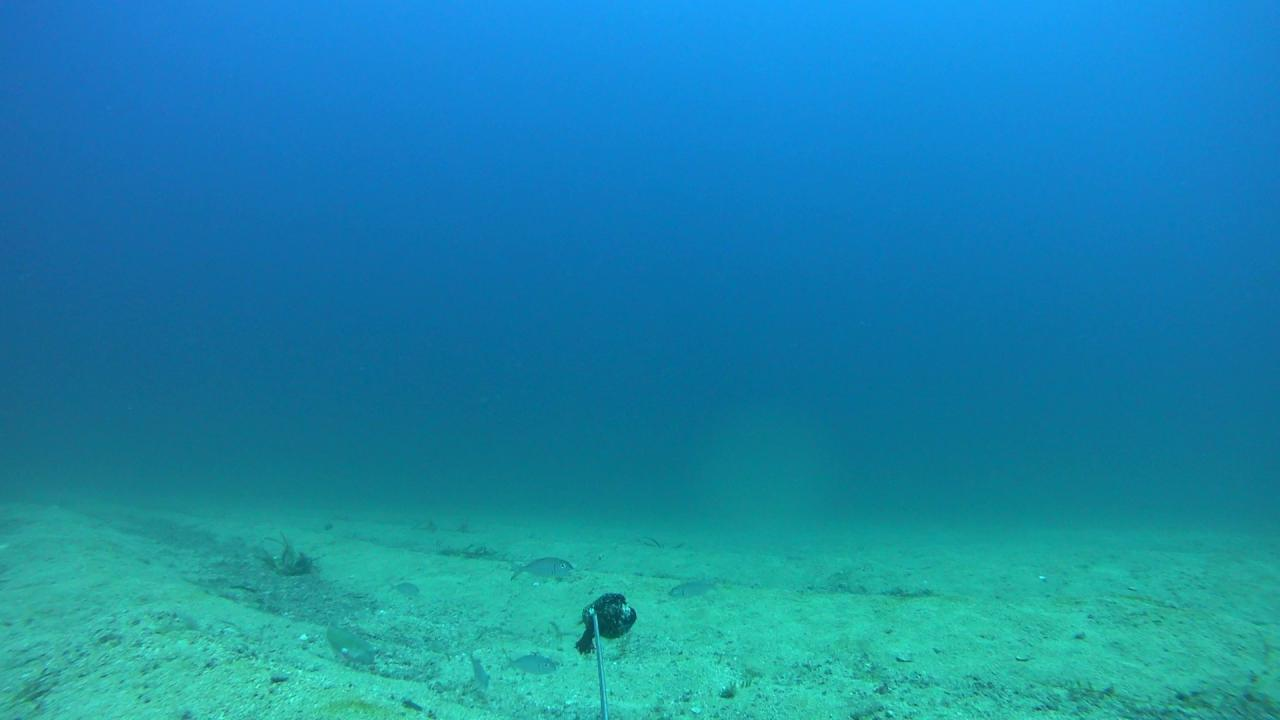pagellus: (505, 557, 572, 581), (501, 652, 554, 672), (669, 578, 720, 597), (467, 653, 490, 690), (383, 579, 417, 596)
